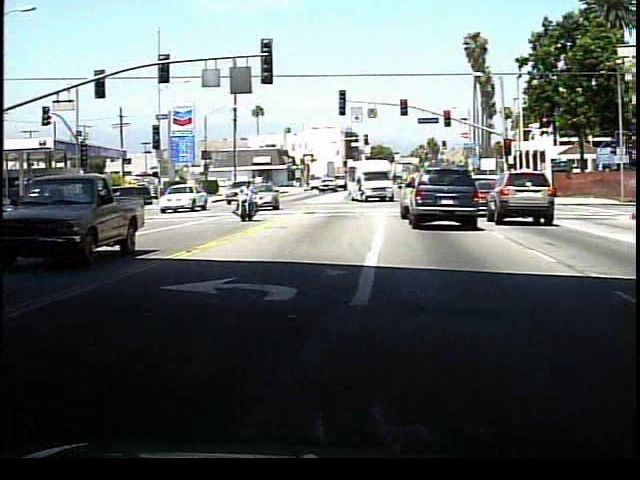person: (235, 180, 258, 224)
